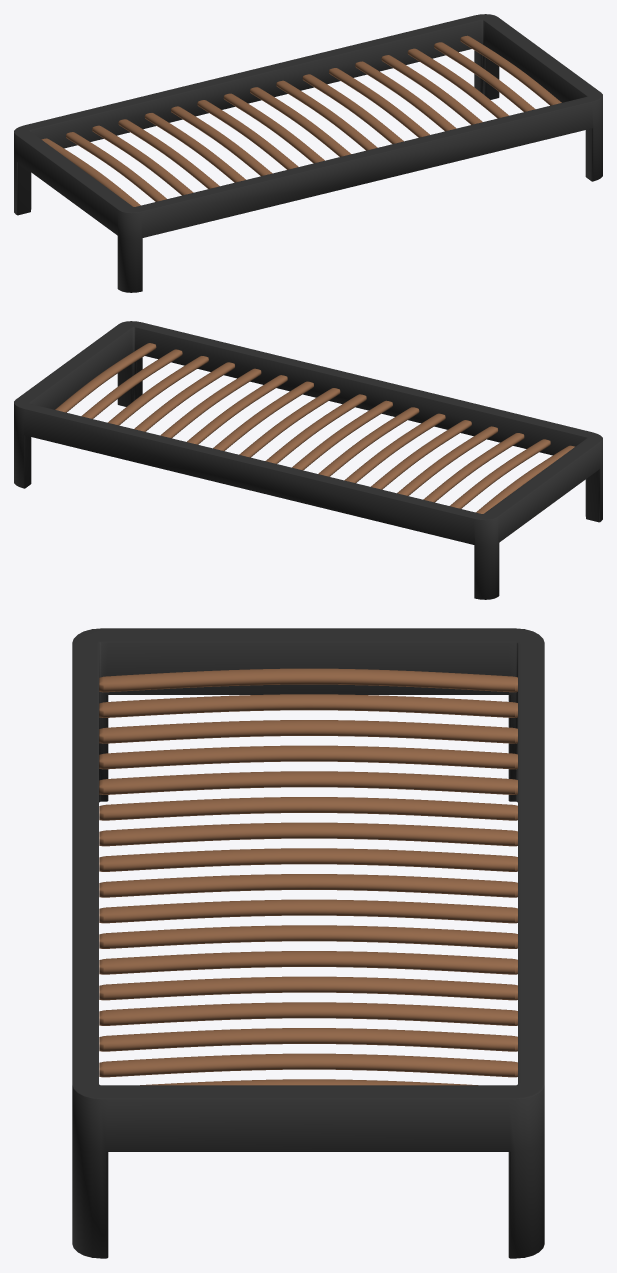
The model's file is BedBase.glb.
The picture shows the model from 3 angles, top to bottom: view 1: azimuth 30°, elevation 25°; view 2: azimuth 150°, elevation 25°; view 3: azimuth 270°, elevation 25°; orthographic projection. The views are drawn at different scales.
Parts seen in each view (by area): view 1: Cube, Cube.001; view 2: Cube, Cube.001; view 3: Cube.001, Cube.
Boxes of the visible parts, <box> form: Cube: <box>14,14,602,292</box>; Cube.001: <box>41,35,561,206</box>; Cube: <box>14,321,602,599</box>; Cube.001: <box>55,343,574,513</box>; Cube.001: <box>99,668,517,1085</box>; Cube: <box>72,628,544,1258</box>.
Size of the model in its own units: 2.08 by 0.3302 by 0.8837.
